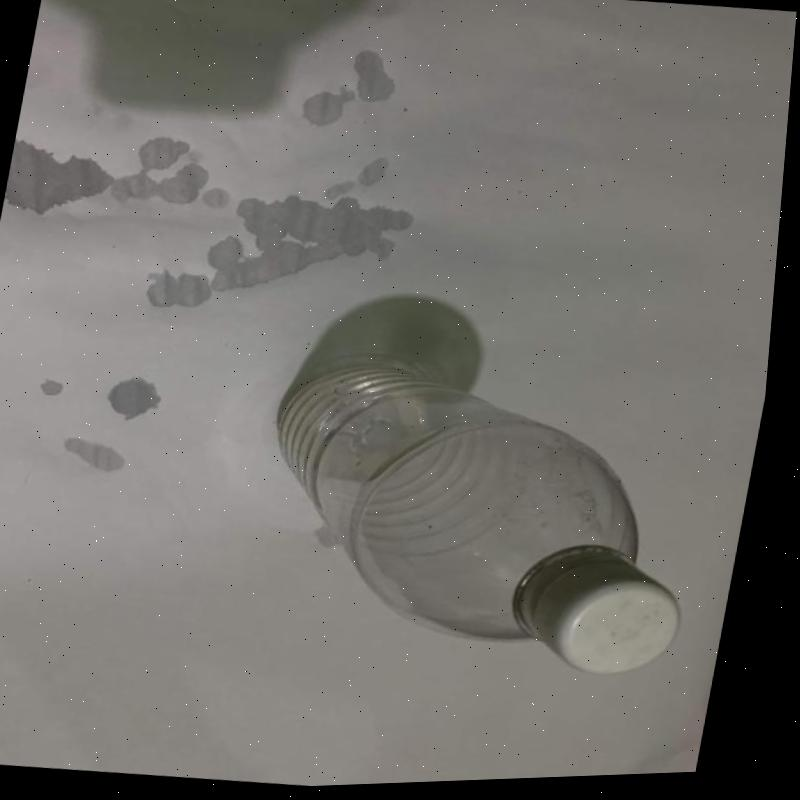botella: (243, 335, 734, 693)
